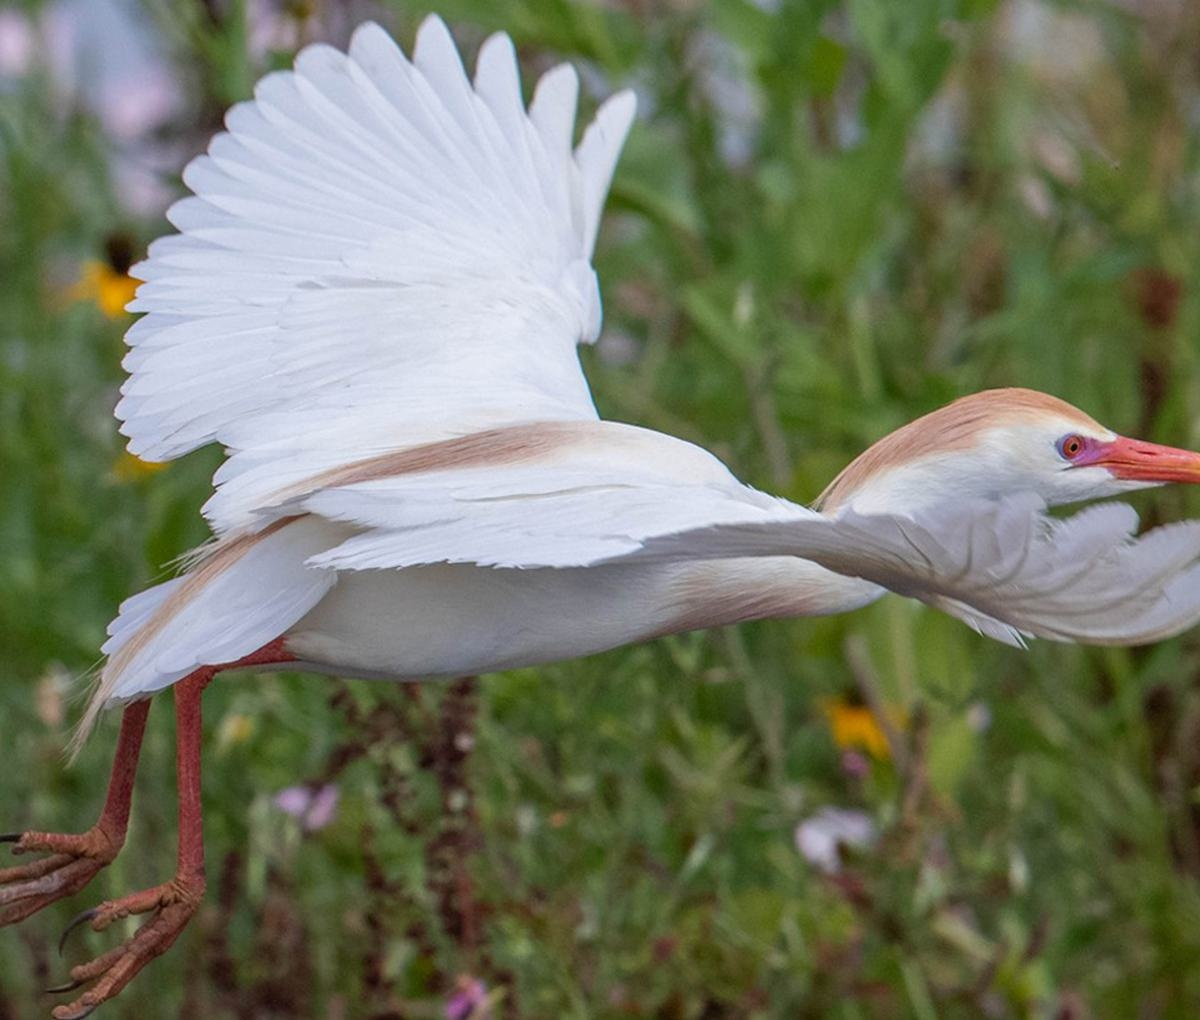egret: (8, 1, 1200, 1010)
